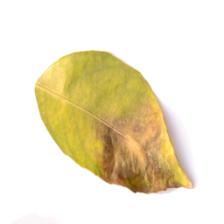black spot: (88, 110, 194, 199)
